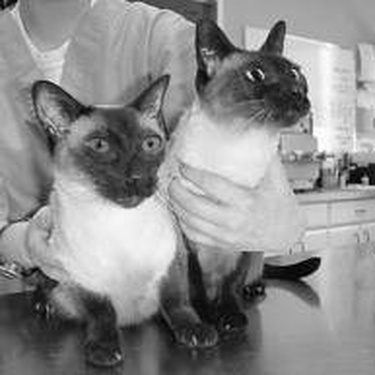cat: (16, 69, 212, 371), (180, 20, 326, 344)
